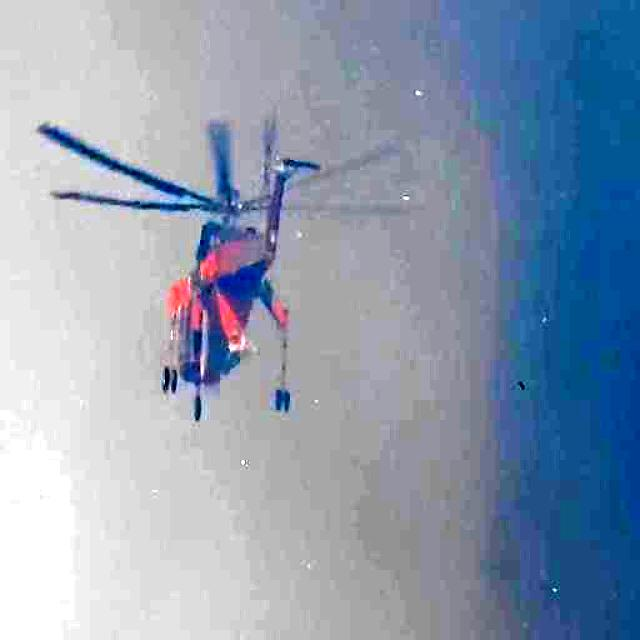drone: (32, 110, 444, 430)
